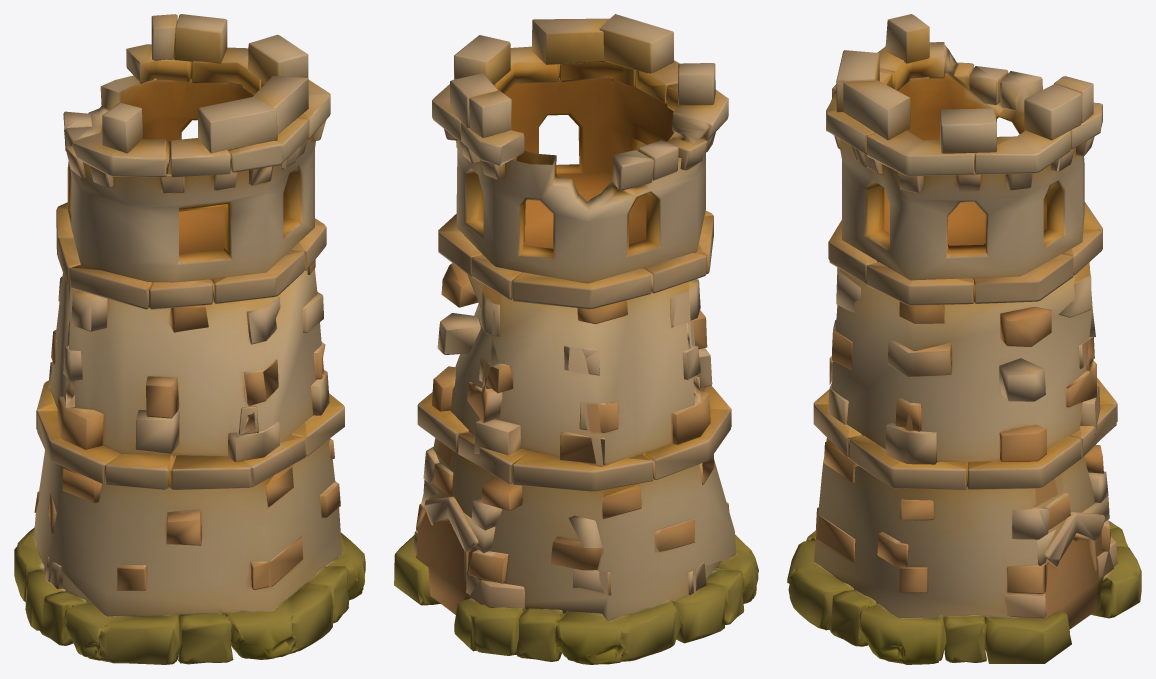
File: watchtower-4.glb
3 renders of one model, left to right at view 1: azimuth 30°, elevation 25°; view 2: azimuth 150°, elevation 25°; view 3: azimuth 270°, elevation 25°, orthographic.
Visible parts, largest first — view 1: tripo_node_c2a0a38f-2c8f-4ba6-b619-0784d51ad182; view 2: tripo_node_c2a0a38f-2c8f-4ba6-b619-0784d51ad182; view 3: tripo_node_c2a0a38f-2c8f-4ba6-b619-0784d51ad182.
Boxes of the visible parts, <box> form: tripo_node_c2a0a38f-2c8f-4ba6-b619-0784d51ad182: <box>14,14,365,664</box>; tripo_node_c2a0a38f-2c8f-4ba6-b619-0784d51ad182: <box>394,14,758,664</box>; tripo_node_c2a0a38f-2c8f-4ba6-b619-0784d51ad182: <box>787,14,1141,664</box>.
Size of the model in its own units: 0.7068 by 1.2 by 0.7303.
1 material, 1 textured.
